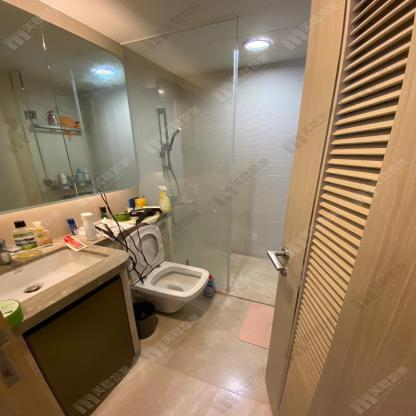Faucet: (0, 235, 18, 264)
Toilet: (121, 226, 210, 313)
Toilet Sink: (0, 245, 111, 305)
Water Cubicle: (121, 3, 310, 304)
